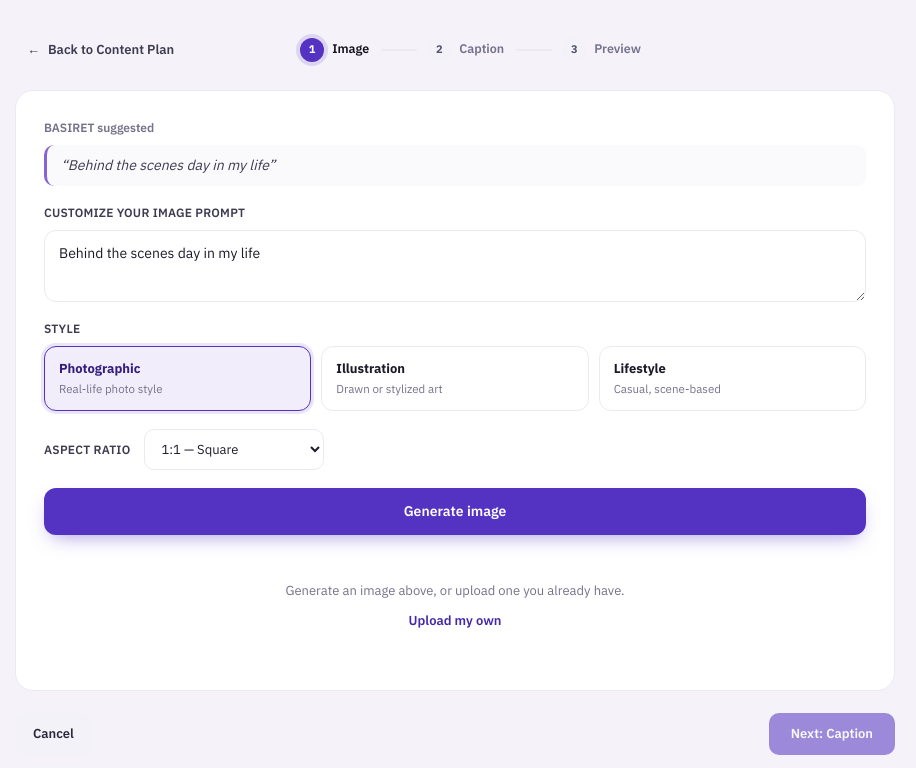
WizardImageStep — generate flow › on success, renders the result image and enables the Next button
This screenshot has width=916, height=768.
Expected: the button with test id "wizard-next" is disabled, [769,713,895,755]
Click the button with test id "image-generate": [455, 512] box [44,488,866,535]
(page scrolled)
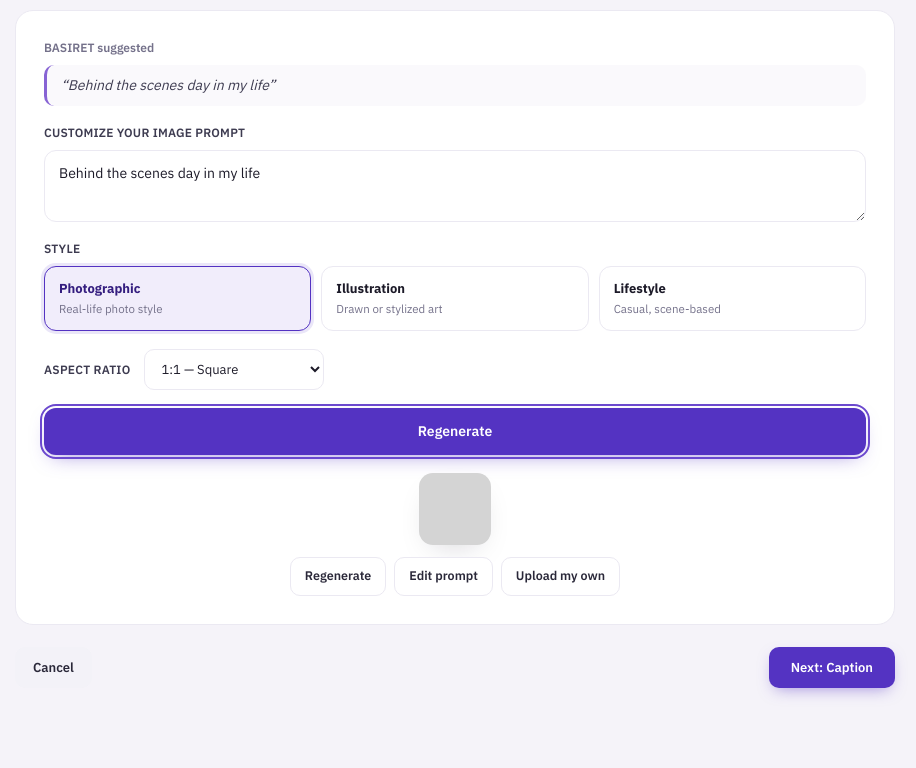
Now the button with test id "wizard-next" is enabled, box [769,647,895,688]
